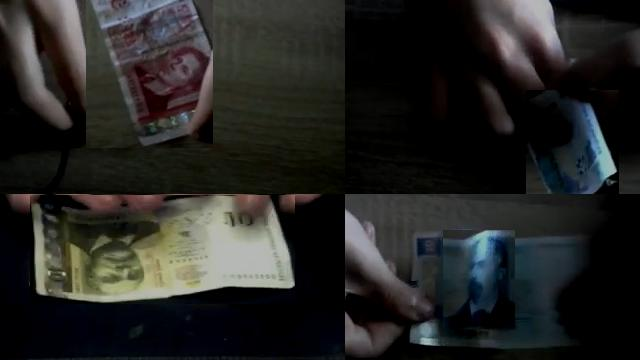10leva: (30, 195, 295, 304)
20leva: (526, 90, 619, 194), (443, 230, 515, 329)
5leva: (90, 0, 213, 148)
